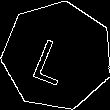L_N: (33, 26, 81, 85)
